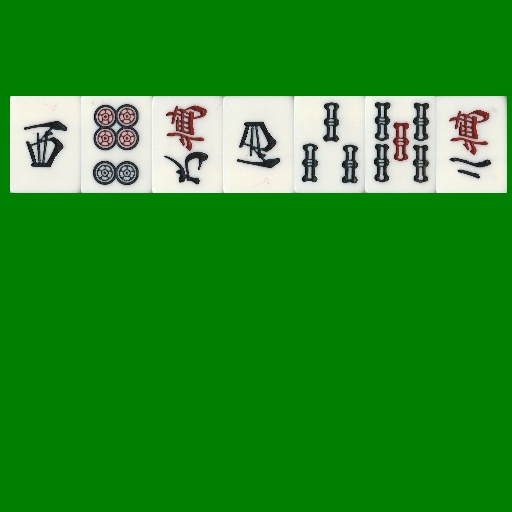2m: (436, 96, 507, 193)
3s: (294, 96, 365, 193)
5s: (365, 96, 436, 193)
6p: (81, 96, 152, 193)
9m: (152, 96, 223, 193)
west: (10, 96, 81, 193), (223, 96, 294, 193)
